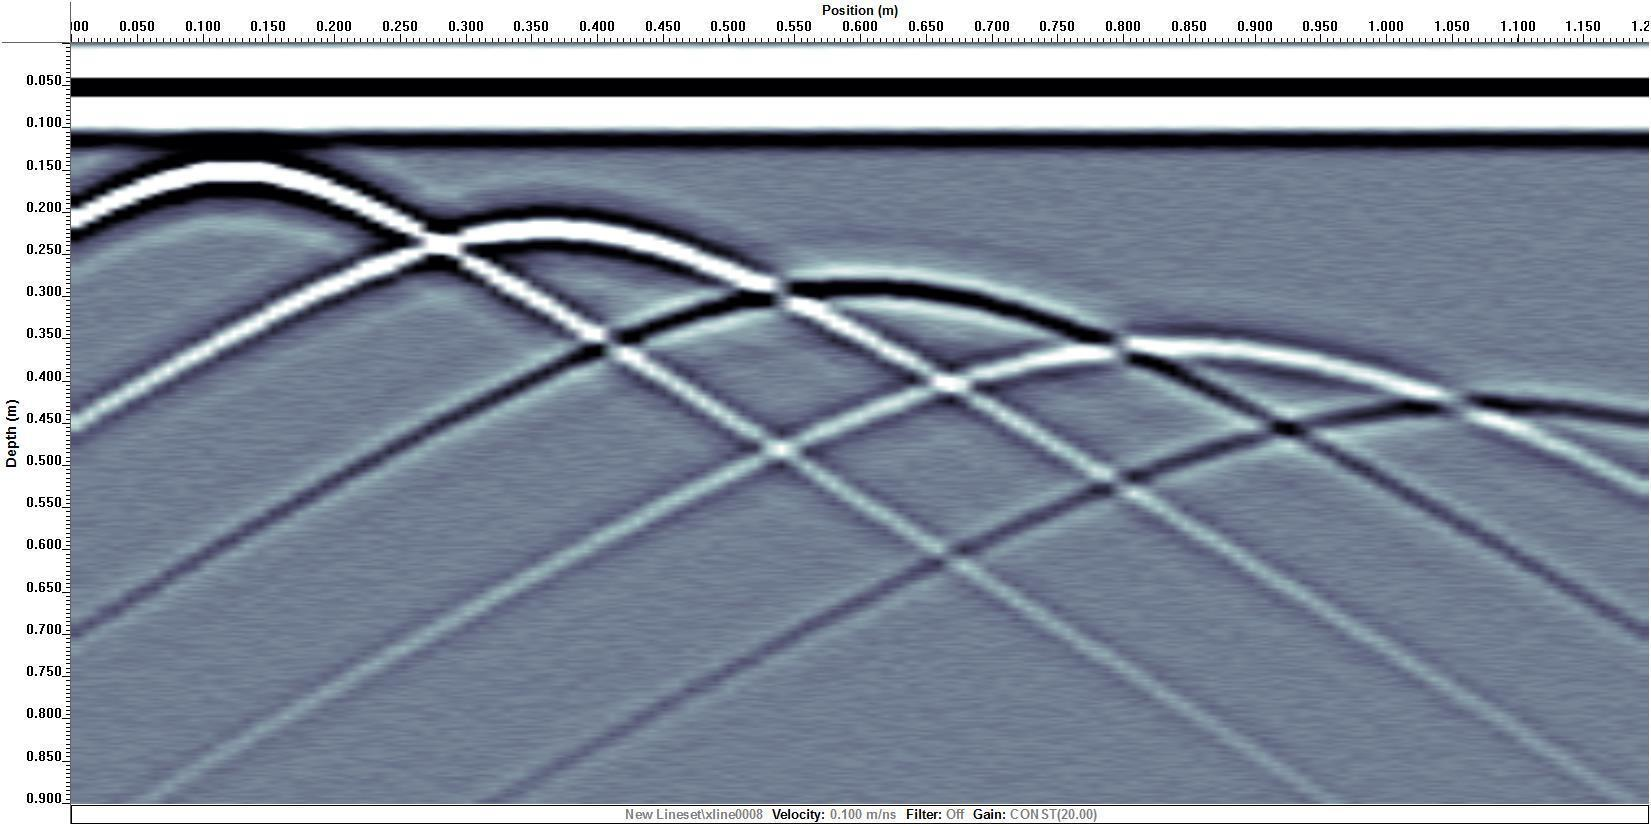hyperbola: (940, 311, 1429, 413), (606, 254, 1088, 354), (347, 201, 742, 300), (74, 146, 419, 249)
